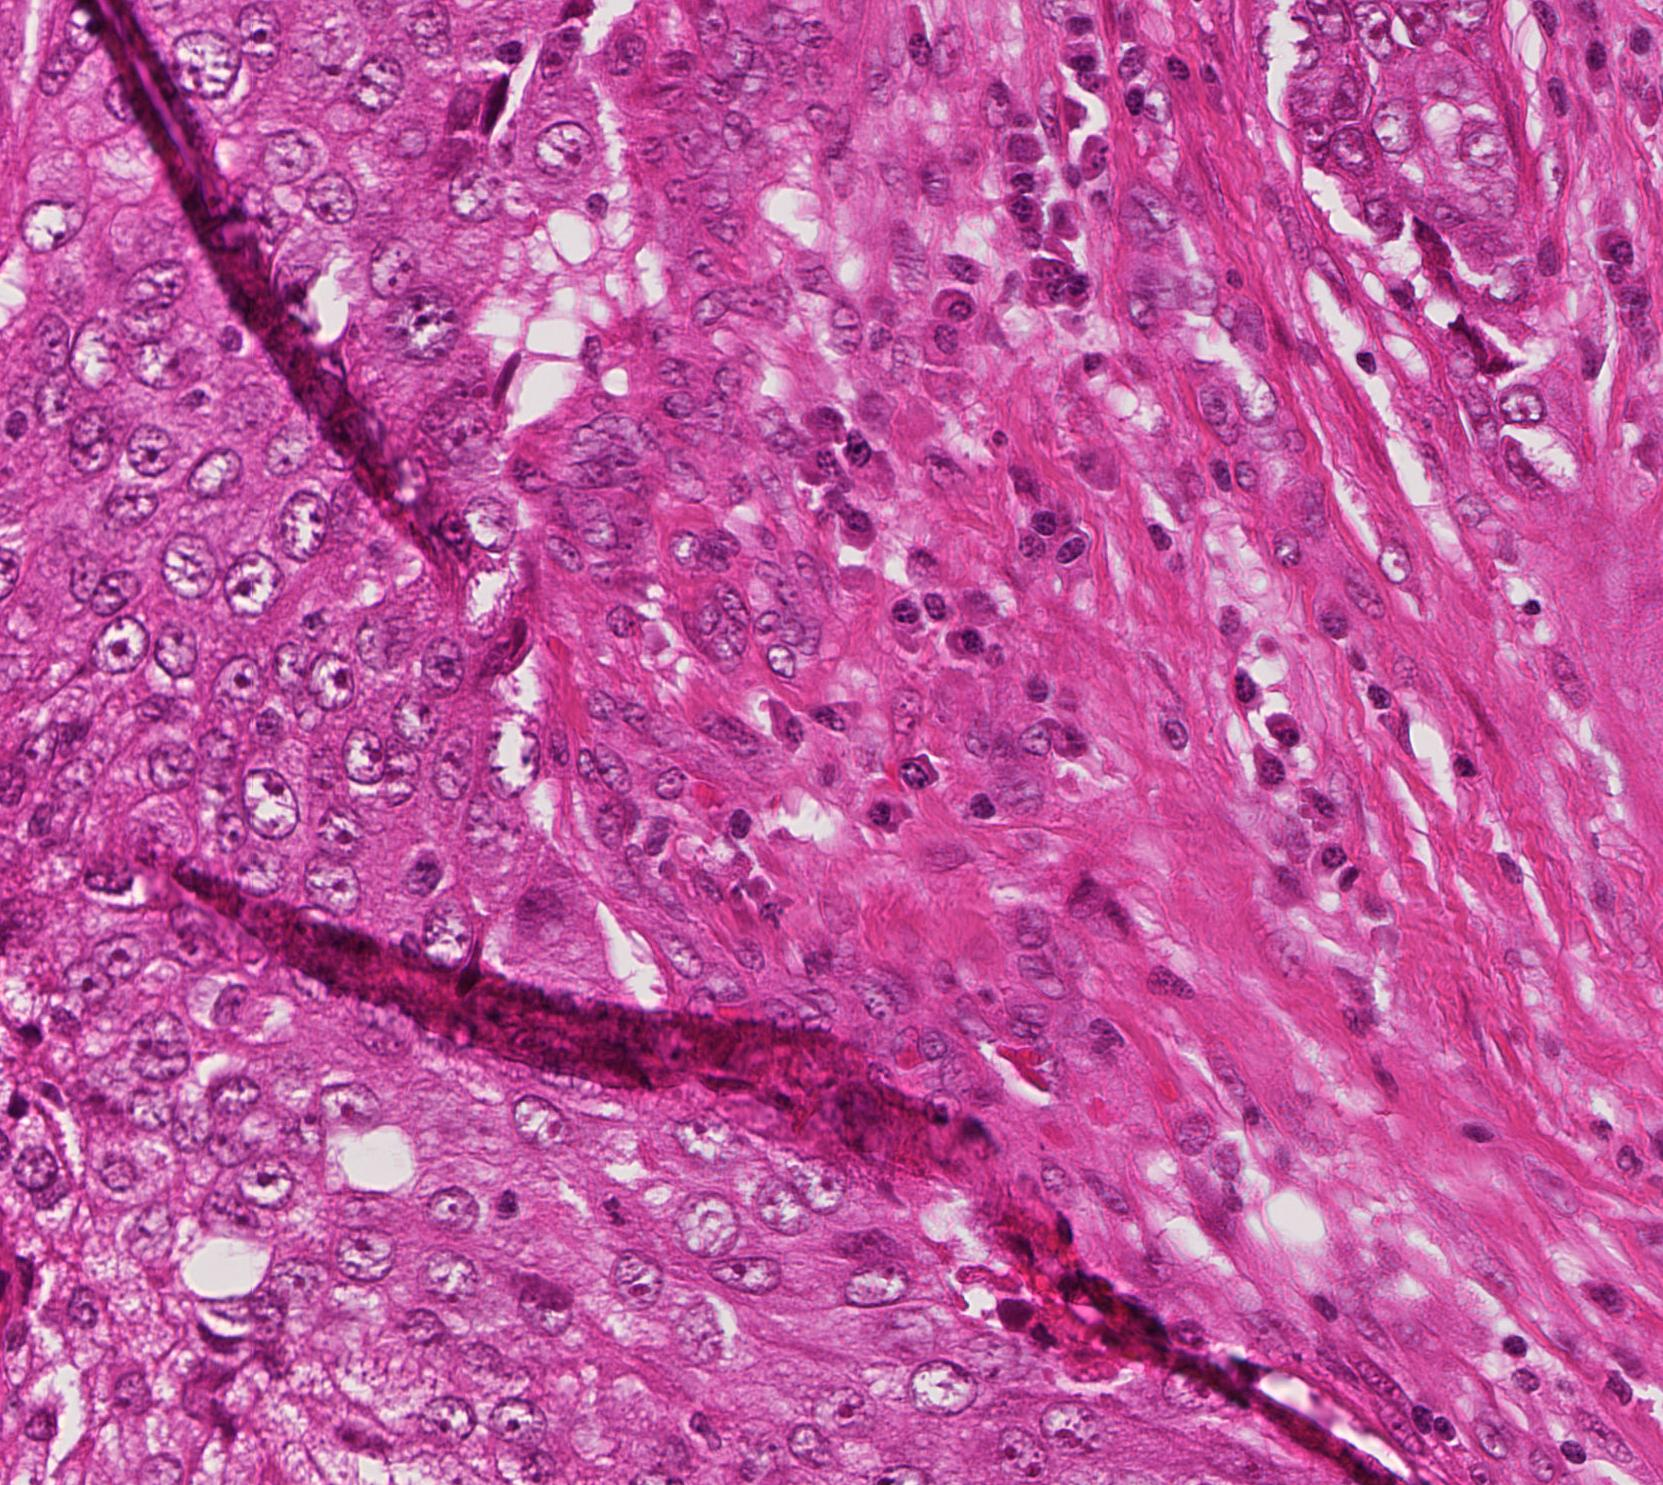mitosis: (596, 1181, 657, 1241)
